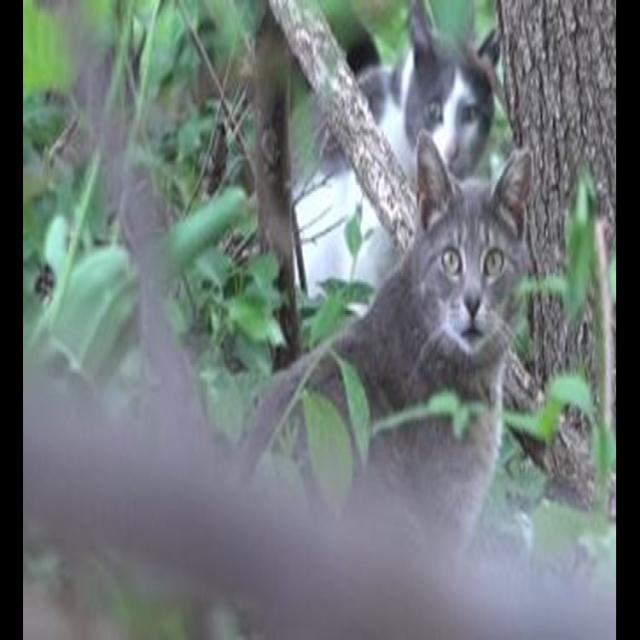cat: (332, 133, 531, 534), (359, 0, 499, 183), (292, 93, 396, 294), (242, 353, 345, 468)
